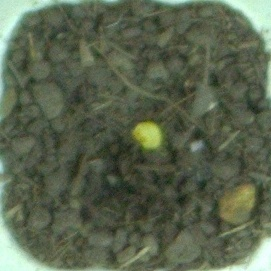chilli seed: (131, 120, 167, 152)
